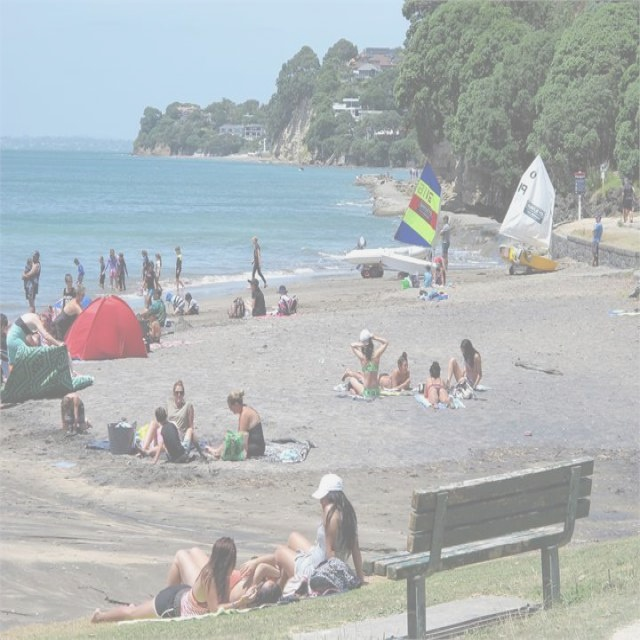pessoa: (88, 534, 260, 624), (266, 472, 369, 597), (164, 545, 286, 607), (5, 310, 80, 400), (135, 378, 196, 460), (206, 388, 267, 462), (341, 349, 414, 394), (348, 328, 390, 402), (51, 283, 88, 345), (442, 336, 482, 392), (150, 404, 182, 464), (423, 361, 453, 412), (60, 391, 94, 433), (22, 249, 42, 314), (246, 233, 268, 290), (140, 286, 168, 330), (244, 276, 266, 317), (588, 212, 604, 268), (101, 248, 122, 290), (142, 260, 158, 312), (0, 312, 11, 381), (173, 245, 187, 298), (418, 284, 450, 307), (440, 215, 452, 272), (620, 176, 632, 228), (62, 272, 78, 308), (276, 284, 294, 316), (429, 256, 447, 287), (166, 292, 187, 318), (624, 180, 636, 224), (116, 252, 129, 292), (152, 252, 164, 293), (22, 256, 35, 293), (146, 310, 162, 340), (183, 290, 200, 316), (72, 256, 86, 286), (25, 332, 43, 349), (98, 254, 106, 292), (422, 264, 434, 289), (41, 330, 55, 350), (407, 164, 422, 182), (142, 249, 150, 282), (434, 266, 444, 286), (45, 304, 56, 322), (382, 168, 394, 178), (134, 312, 142, 324)
